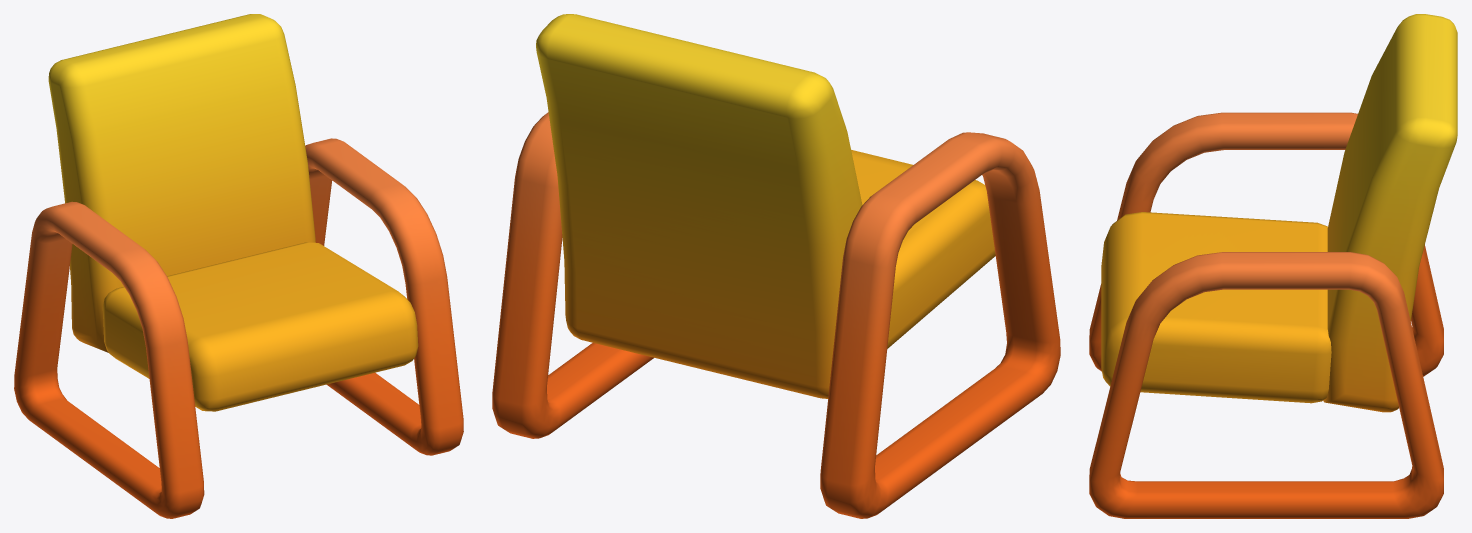
The model's file is Armchair_06.glb.
The picture shows the model from 3 angles, left to right: view 1: azimuth 30°, elevation 25°; view 2: azimuth 150°, elevation 25°; view 3: azimuth 270°, elevation 25°; orthographic projection. The views are drawn at different scales.
Visible parts, largest first — view 1: Armchair_06; view 2: Armchair_06; view 3: Armchair_06.
Boxes of the visible parts, x1,y1,x2,y2 form: Armchair_06: [14, 14, 463, 518]; Armchair_06: [492, 14, 1060, 518]; Armchair_06: [1089, 14, 1457, 518].
Bounding box in the file's own units: 0.8 × 0.8814 × 0.7815.
1 material, 1 textured.
